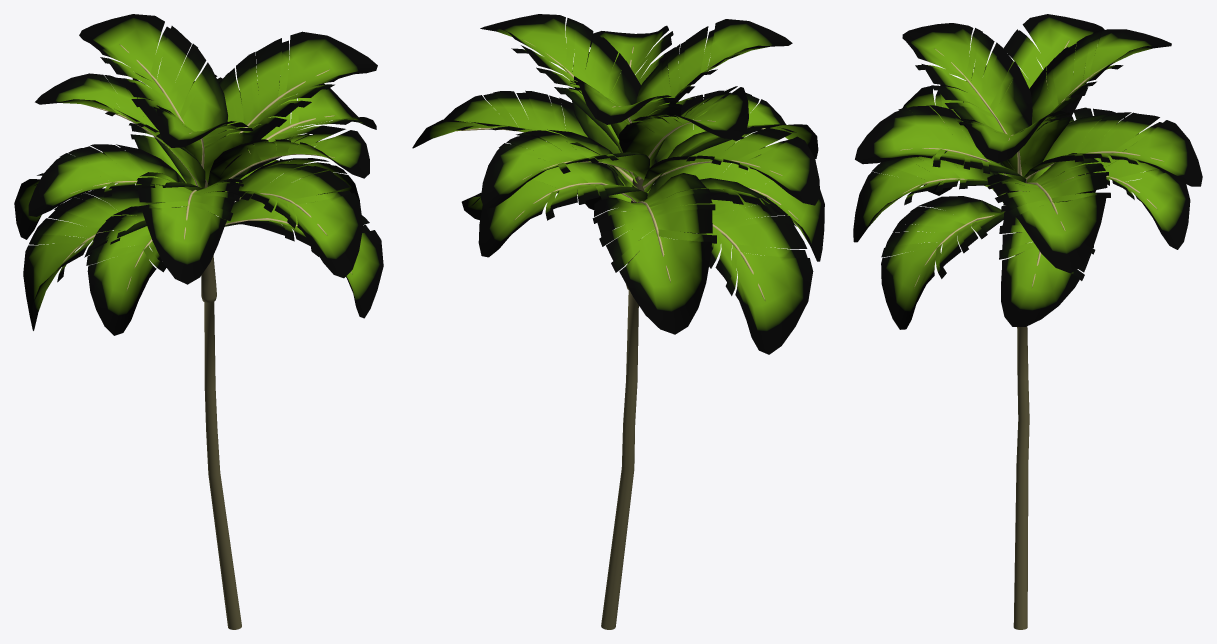
Rendered from palma.fbx.
3 renders of one model, left to right at view 1: azimuth 30°, elevation 25°; view 2: azimuth 150°, elevation 25°; view 3: azimuth 270°, elevation 25°, orthographic. The views are drawn at different scales.
Visible parts, largest first — view 1: Tree_Areca-catechu_C_spring-summer; view 2: Tree_Areca-catechu_C_spring-summer; view 3: Tree_Areca-catechu_C_spring-summer.
Boxes of the visible parts, x1,y1,x2,y2 form: Tree_Areca-catechu_C_spring-summer: (14, 14, 383, 629); Tree_Areca-catechu_C_spring-summer: (412, 14, 824, 629); Tree_Areca-catechu_C_spring-summer: (853, 14, 1202, 629).
Size of the model in its own units: 274 by 414 by 232.
